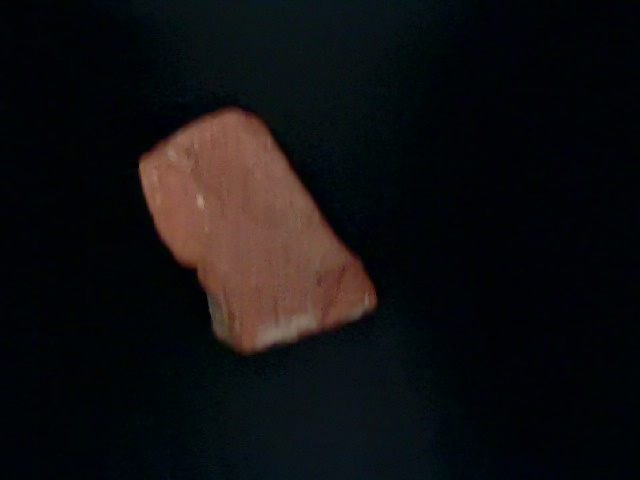KHSLJ: (132, 4, 619, 412)
